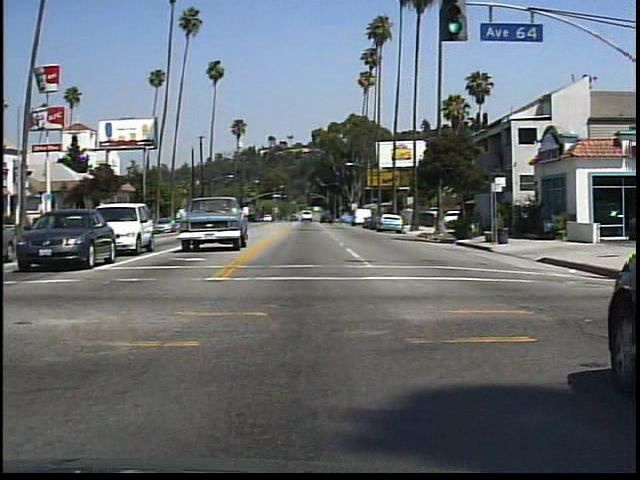person: (466, 199, 488, 242)
